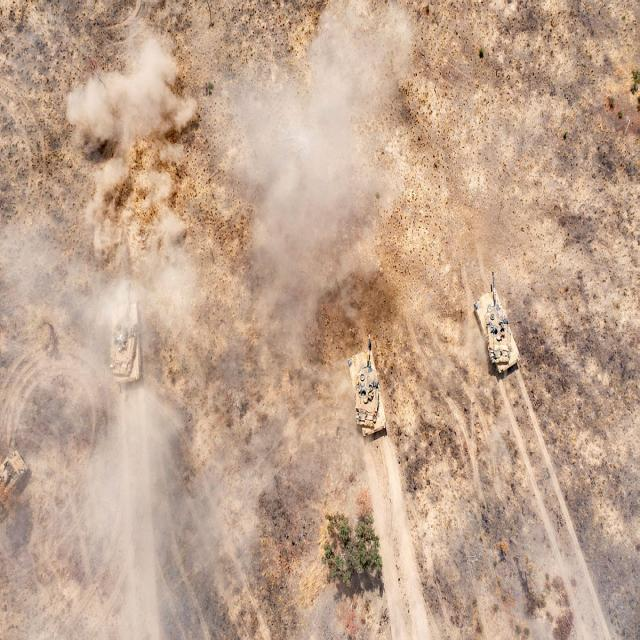tank: (474, 266, 522, 384), (344, 330, 392, 440), (108, 270, 144, 389)
